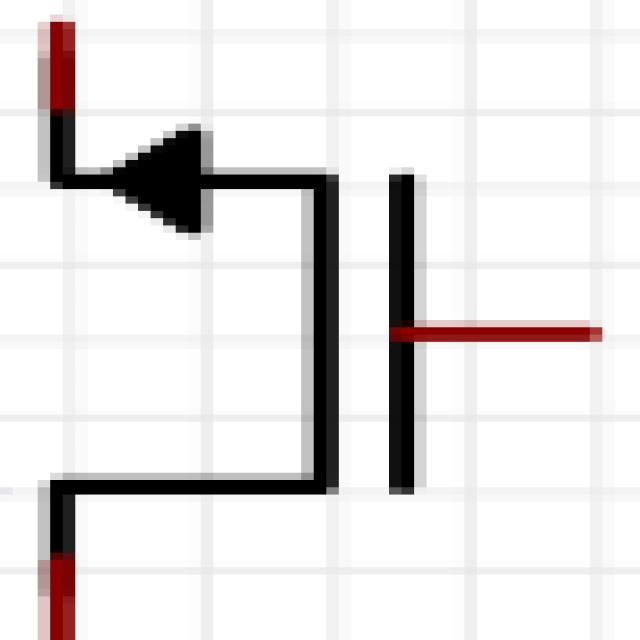nmos: (31, 8, 640, 629)
